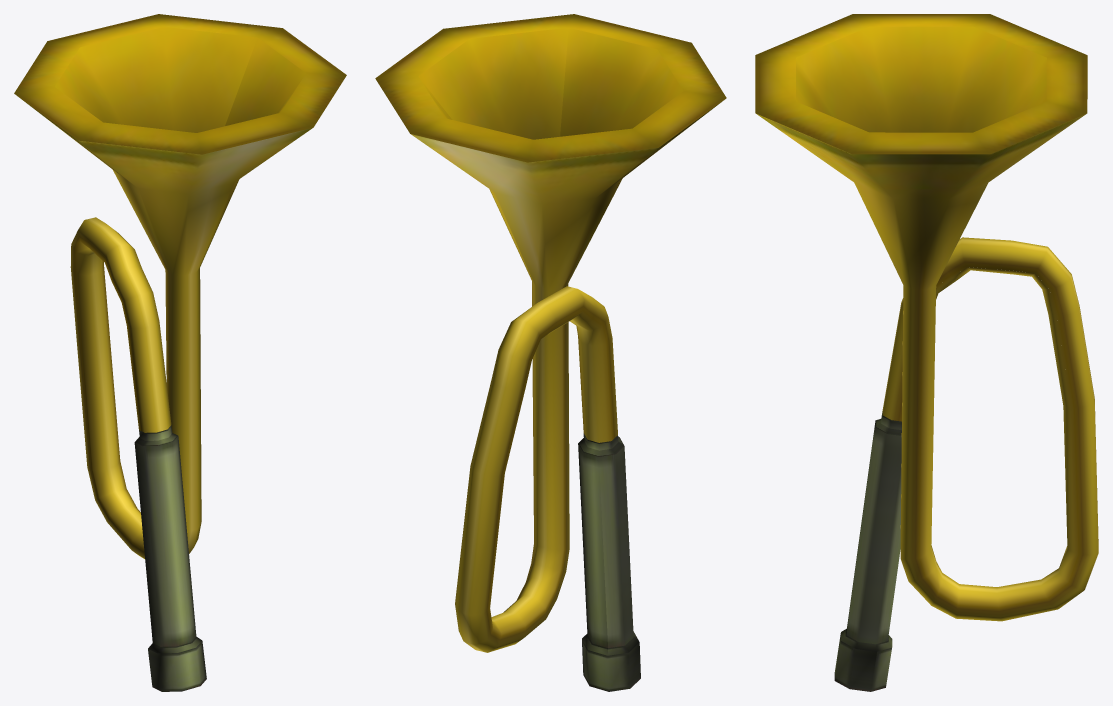
The model's file is bugle.glb.
3 views of the same model, side by side, from view 1: azimuth 30°, elevation 25°; view 2: azimuth 150°, elevation 25°; view 3: azimuth 270°, elevation 25° (orthographic). The views are drawn at different scales.
Visible parts, largest first — view 1: outside, inside; view 2: outside, inside; view 3: outside, inside.
Boxes of the visible parts, x1,y1,x2,y2 form: outside: (17,96,312,691); inside: (14,14,346,154); outside: (411,102,721,691); inside: (375,14,726,162); outside: (756,113,1098,691); inside: (755,14,1087,154).
Size of the model in its own units: 3.67 by 7.54 by 3.79.
3 materials, 3 textured.
